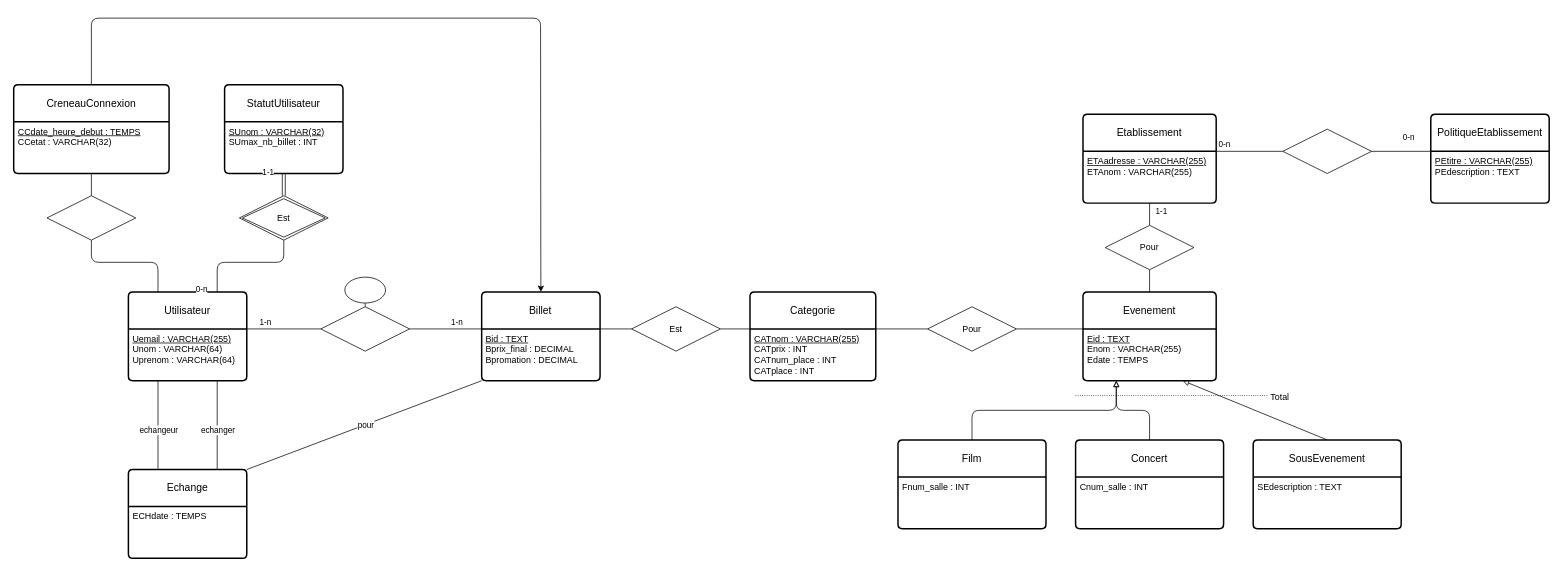
Some shapes in this 1562 by 572 pixel diagram are drawn without their labels. The shapes that lost their labels are listed below. From the top down, each one's centre as x and y in pixels, then its label:
At point 1327,151: "Respecte".
At point 91,217: "Attente".
At point 365,289: "date".
At point 365,328: "Achat".
